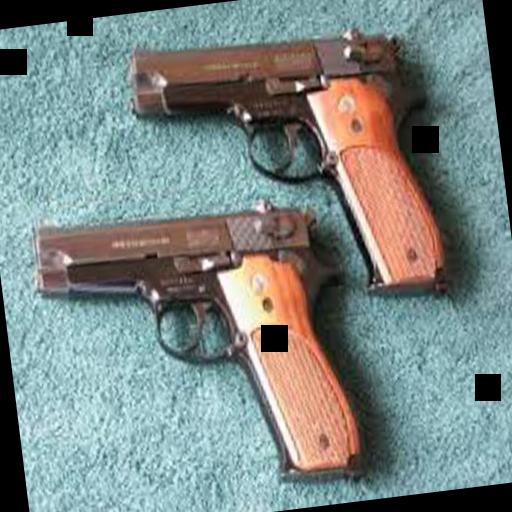Handgun: (24, 185, 375, 512), (120, 8, 456, 333)
